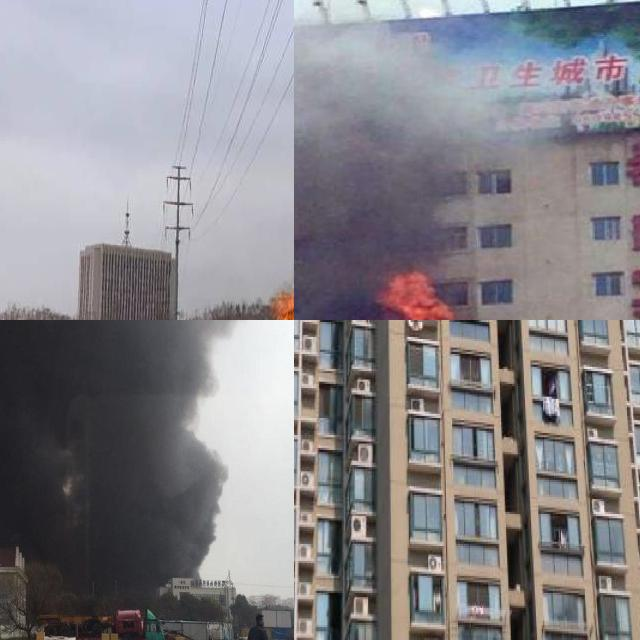fire: (359, 269, 459, 320)
smoke: (0, 320, 262, 607), (294, 23, 477, 320)
